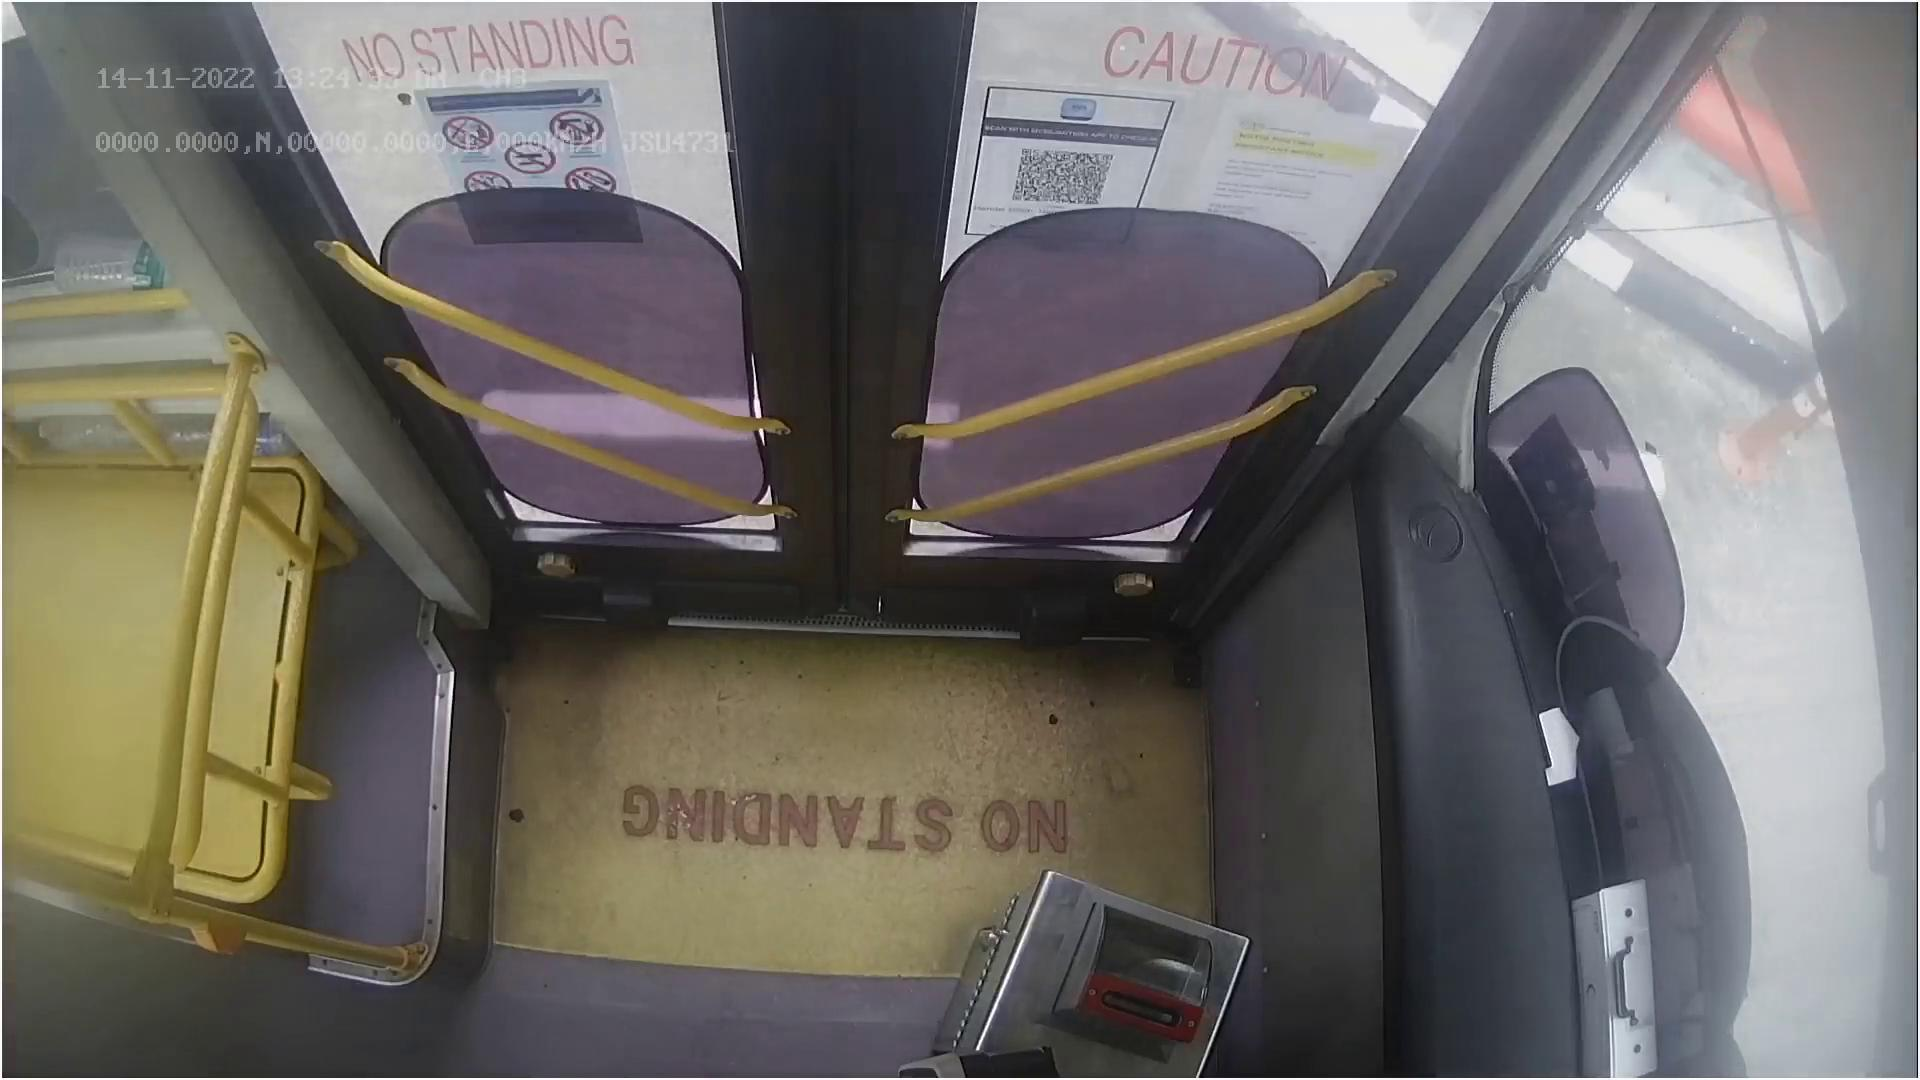close: (289, 0, 1448, 162)
